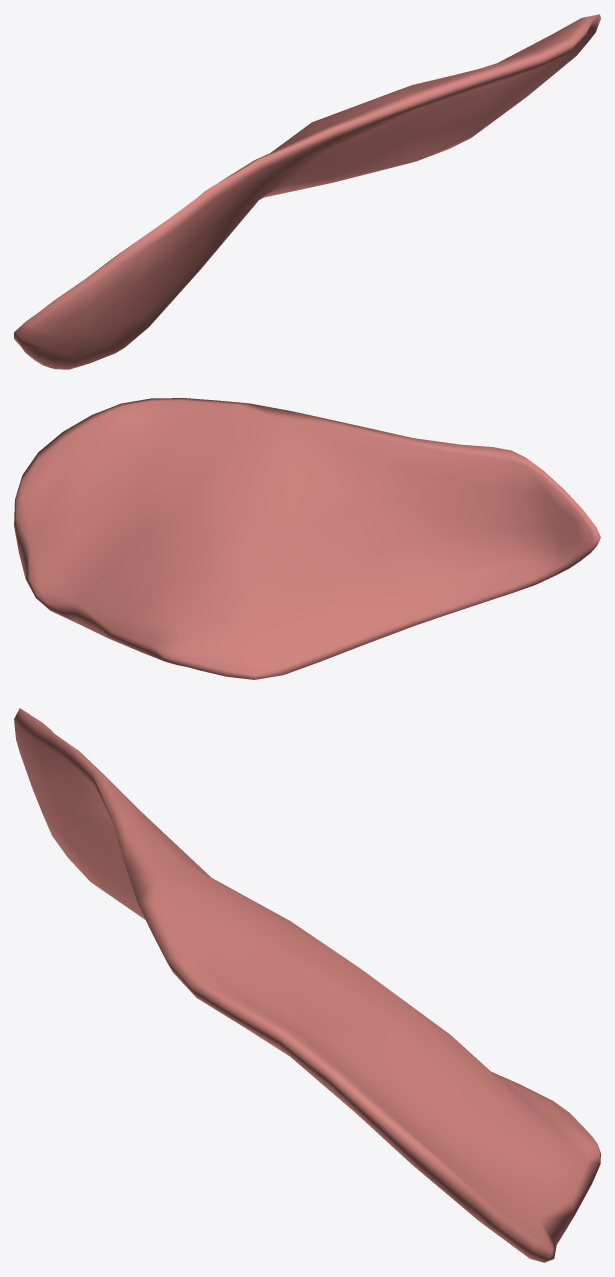
The picture shows the model from 3 angles, top to bottom: view 1: azimuth 30°, elevation 25°; view 2: azimuth 150°, elevation 25°; view 3: azimuth 270°, elevation 25°; orthographic projection. The views are drawn at different scales.
Visible parts, largest first — view 1: ZA_2228a149899d2ba9; view 2: ZA_2228a149899d2ba9; view 3: ZA_2228a149899d2ba9.
Boxes of the visible parts, x1,y1,x2,y2 form: ZA_2228a149899d2ba9: (14, 14, 600, 369); ZA_2228a149899d2ba9: (14, 398, 600, 679); ZA_2228a149899d2ba9: (14, 708, 600, 1262).
Bounding box in the file's own units: 0.0209 × 0.00696 × 0.0117.
